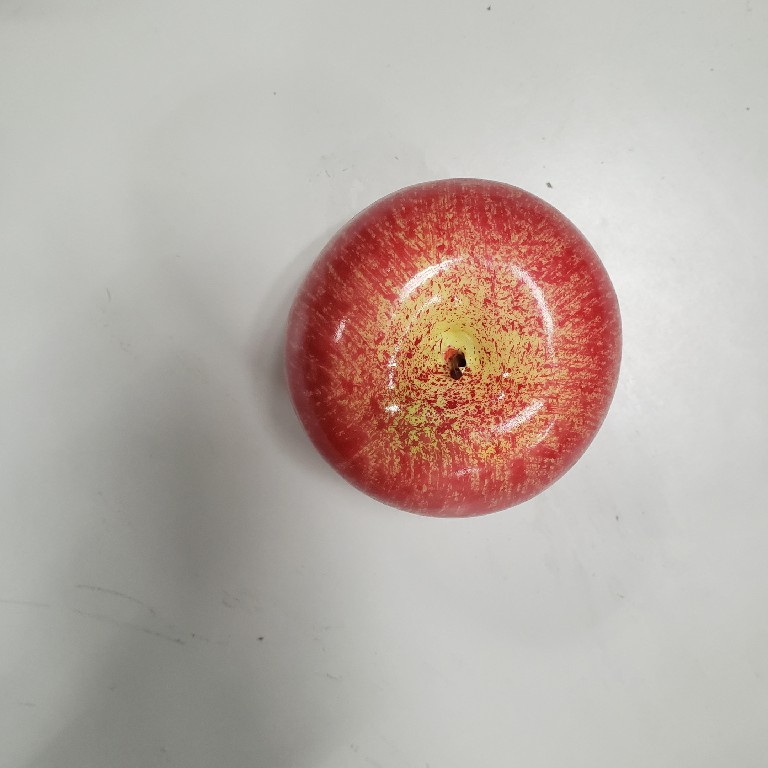fruit_apple: (277, 170, 632, 526)
